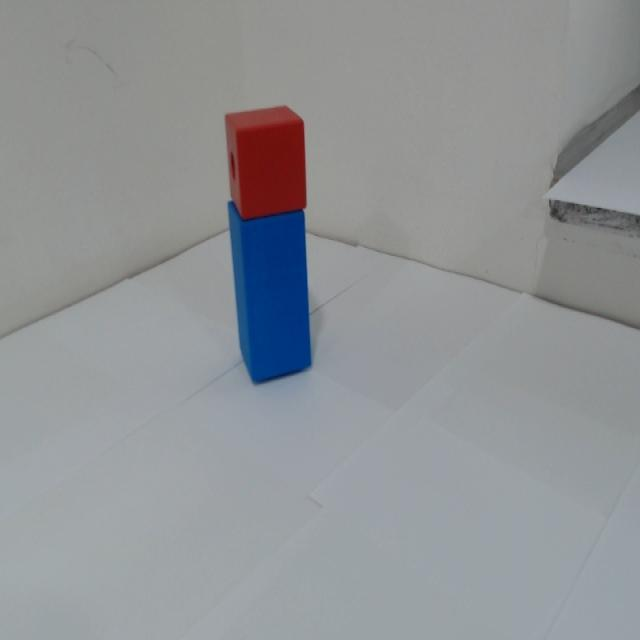cube: (217, 106, 329, 221)
